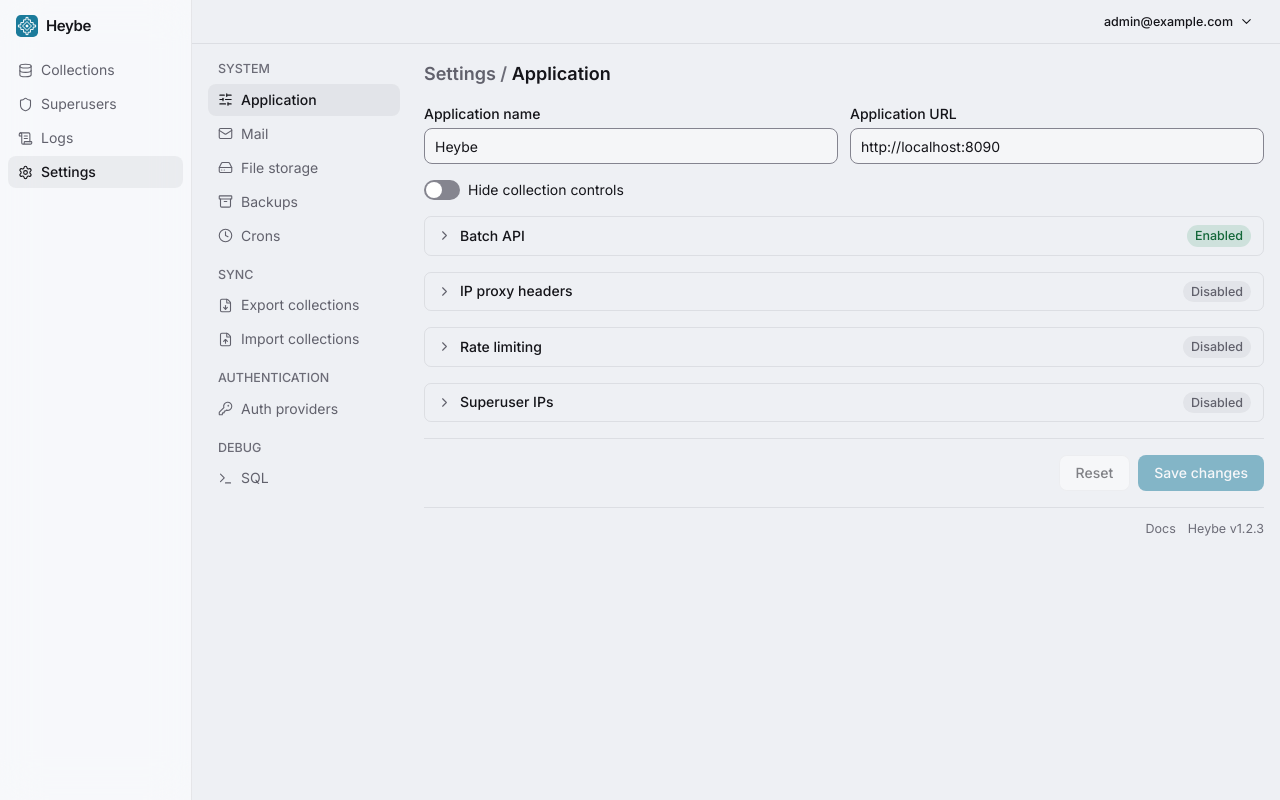
Reset restores loaded values
Type "zzz" into the field labelled "Application name" at (631, 146), box [424,128,838,164]
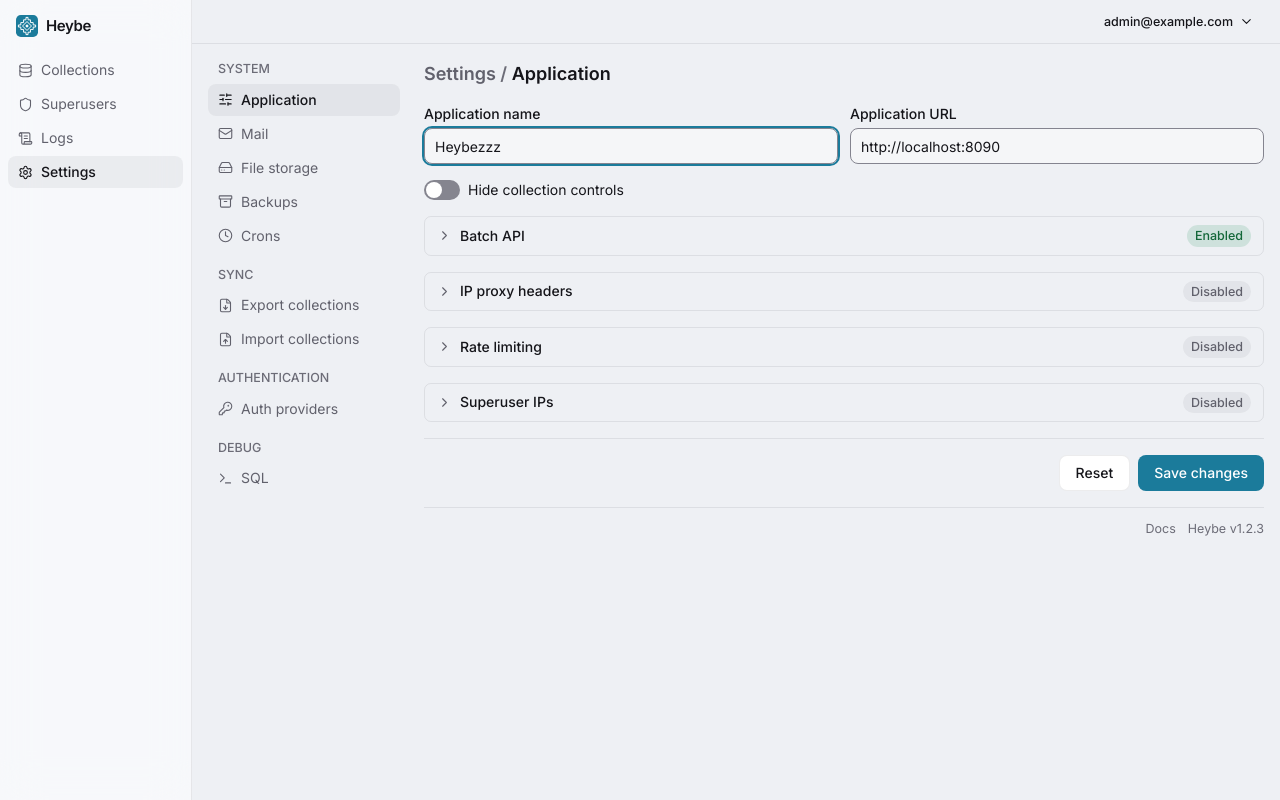
Click the switch named "Hide collection controls" at (442, 190), box [424,180,460,200]
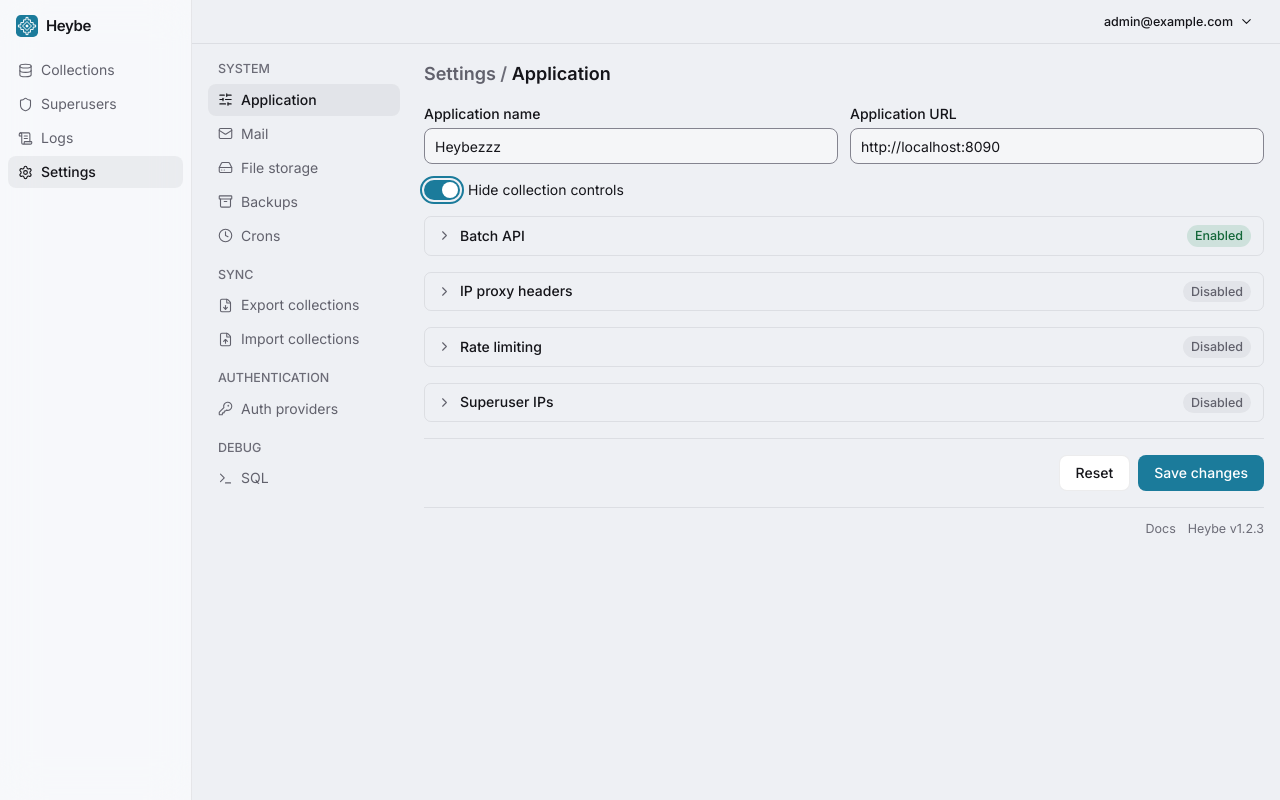
Click the button "Reset" at (1094, 473), box [1058,455,1130,491]
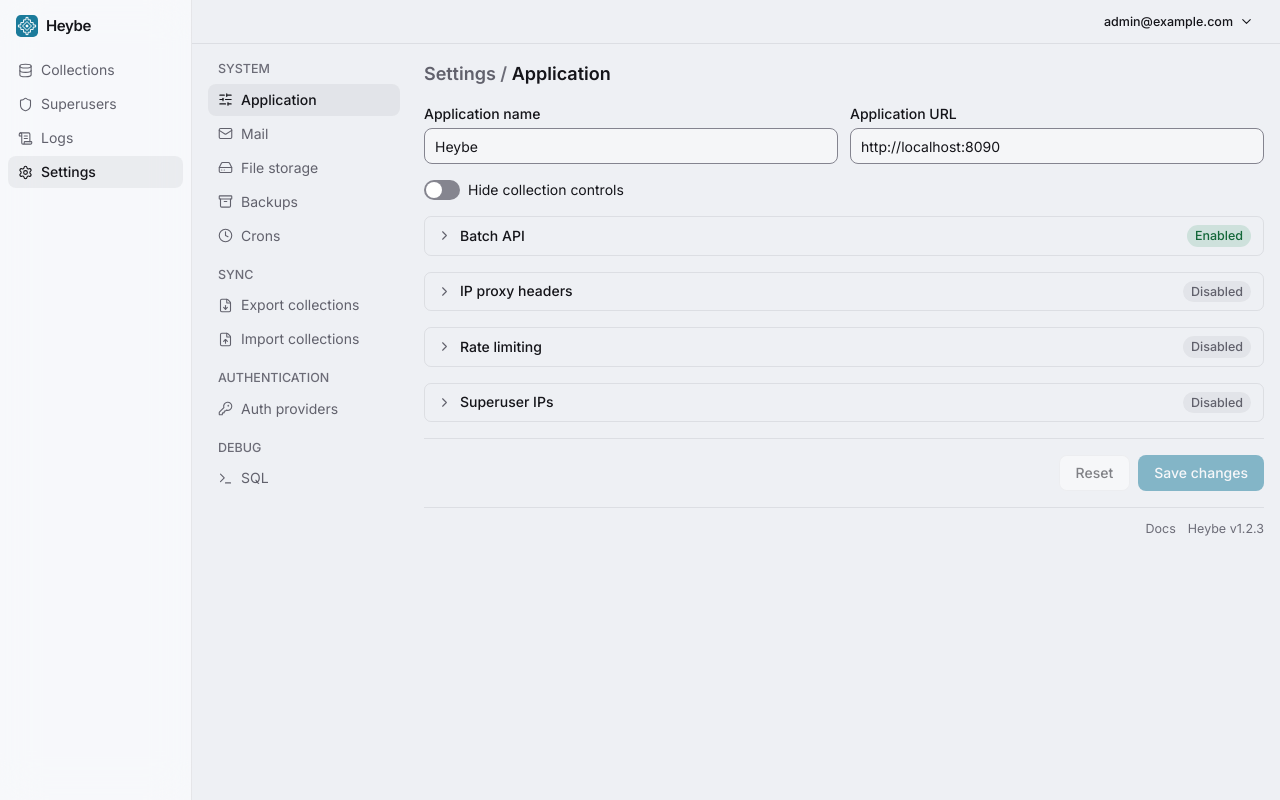
Check: the field labelled "Application name" holds "Heybe", box [424,128,838,164]
